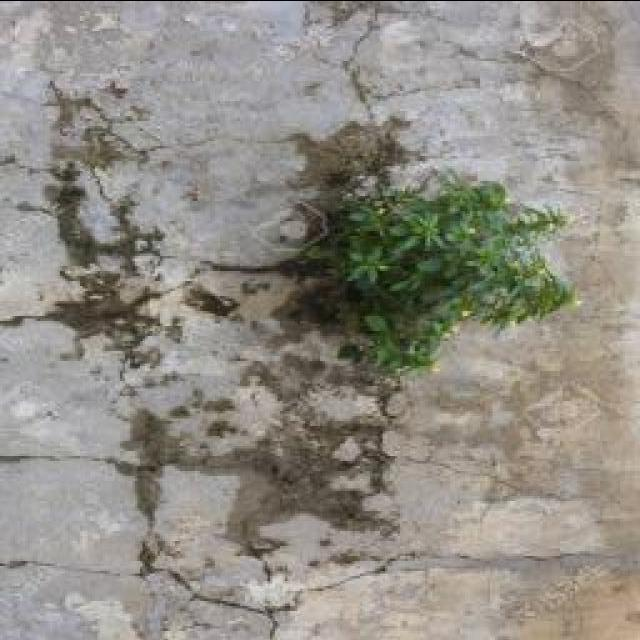crack: (336, 5, 396, 118)
dampness: (46, 84, 387, 596), (511, 3, 640, 185)
vegetation: (267, 109, 563, 390), (245, 117, 419, 252)
